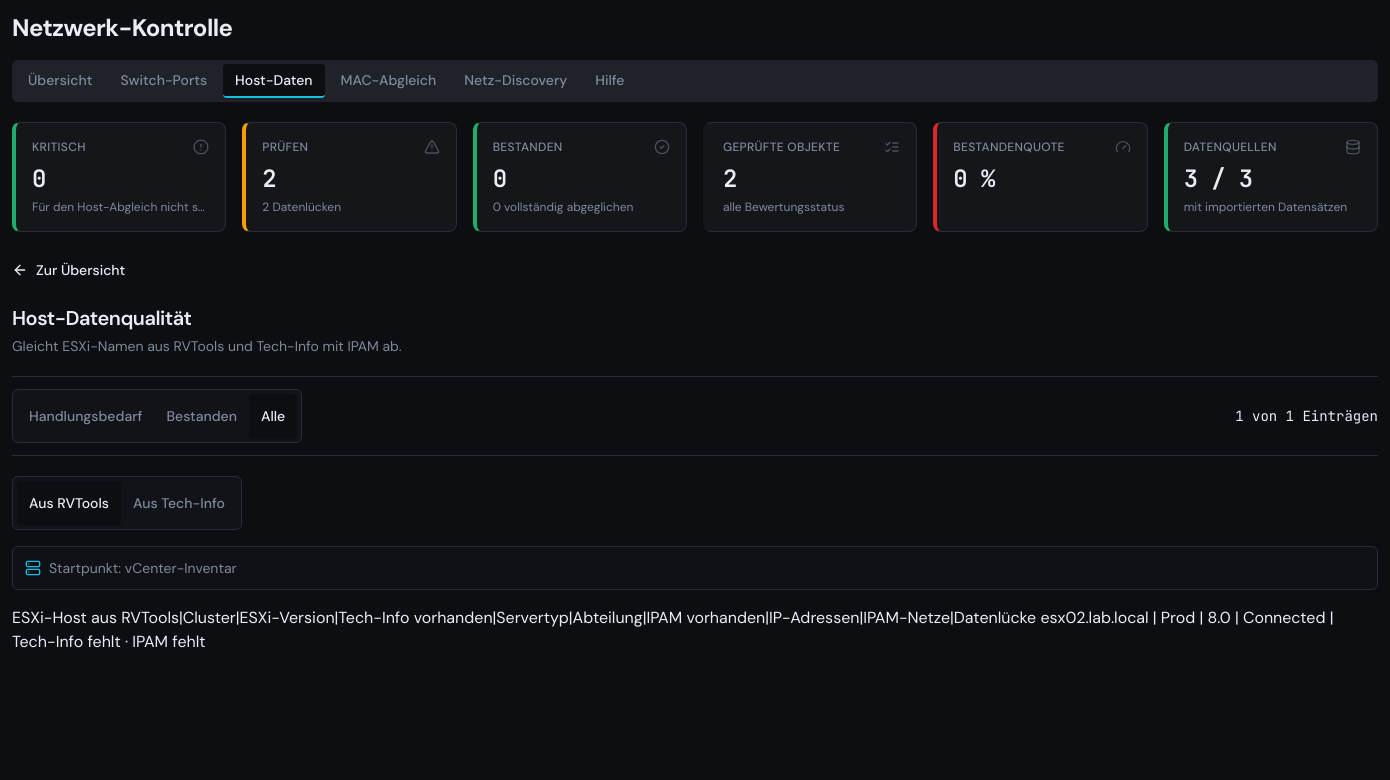
NetworkAuditPanel host data quality › zeigt im Host-Detail jeweils genau eine Datenperspektive
Expected: the heading "Host-Datenqualität" is shown, [12,305,192,331]
Expected: the element with test id "table-host-data-quality-rvtools" shows "esx02.lab.local", [12,607,1334,652]
Click the radio button labelled "Aus Tech-Info" at (179, 503), box [133,494,225,512]
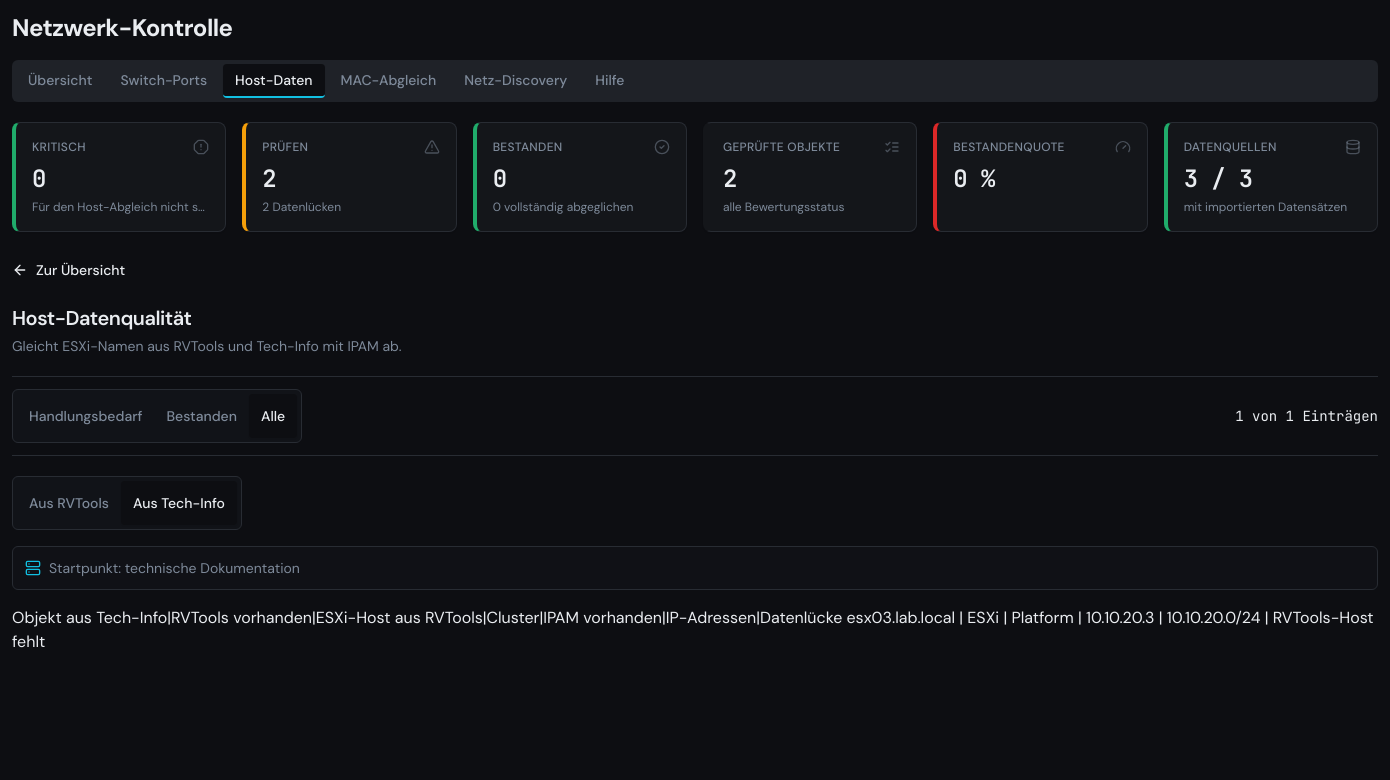
Expected: the element with test id "table-host-data-quality-techinfo" shows "esx03.lab.local", [12,607,1374,652]
Expected: the element with test id "table-host-data-quality-techinfo" shows "10.10.20.0/24", [12,607,1374,652]
